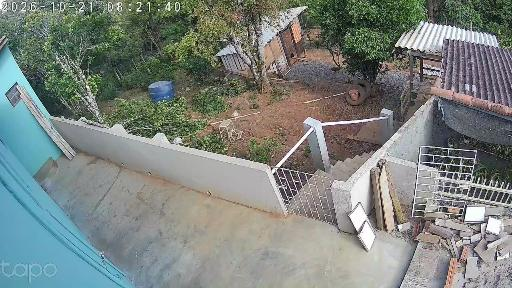galinha: (173, 133, 184, 146), (230, 110, 239, 121)
